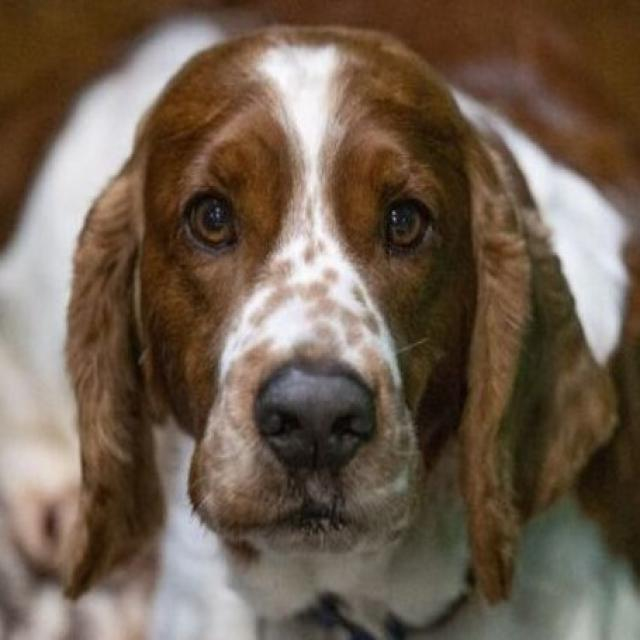eye: (179, 184, 245, 259), (378, 190, 436, 262)
